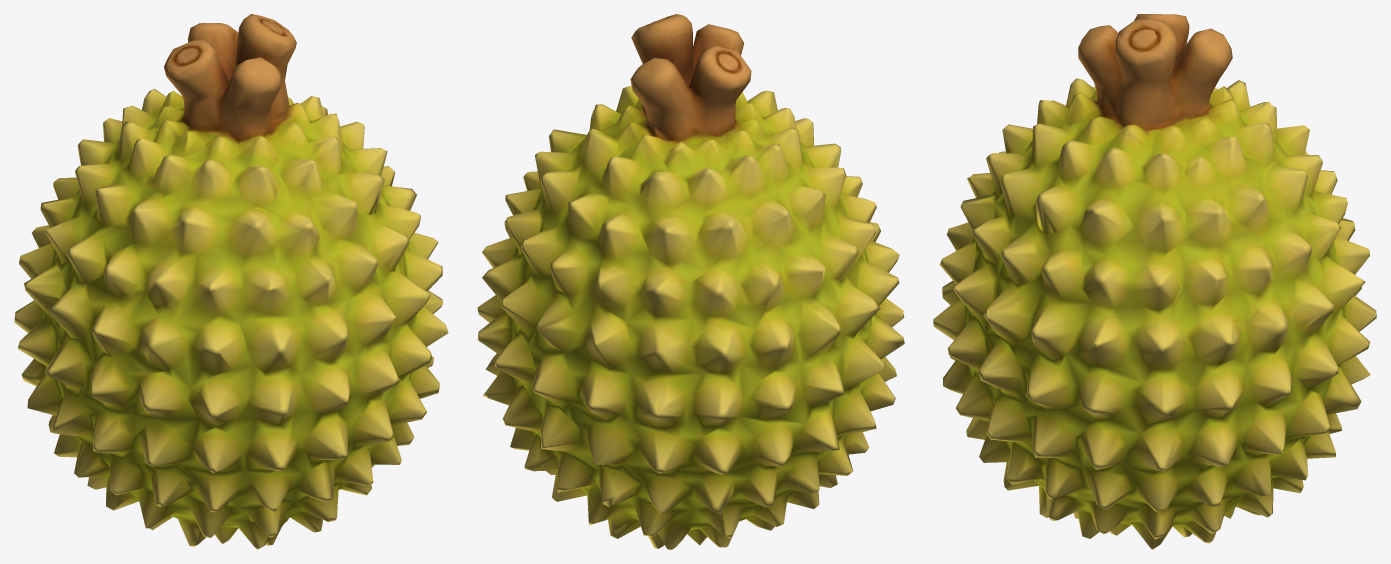
Rendered from food_durian.glb.
3 views of the same model, side by side, from view 1: azimuth 30°, elevation 25°; view 2: azimuth 150°, elevation 25°; view 3: azimuth 270°, elevation 25° (orthographic). The views are drawn at different scales.
Visible parts, largest first — view 1: tripo_node_ec3484e1-9731-4b6c-9583-b6cb80685841; view 2: tripo_node_ec3484e1-9731-4b6c-9583-b6cb80685841; view 3: tripo_node_ec3484e1-9731-4b6c-9583-b6cb80685841.
Part boxes in pixels (x1,y1,x2,y2): tripo_node_ec3484e1-9731-4b6c-9583-b6cb80685841: (14,14,448,549); tripo_node_ec3484e1-9731-4b6c-9583-b6cb80685841: (477,14,904,549); tripo_node_ec3484e1-9731-4b6c-9583-b6cb80685841: (933,14,1376,549).
Bounding box in the file's own units: 0.1571 × 0.2 × 0.1558.
1 material, 1 textured.
